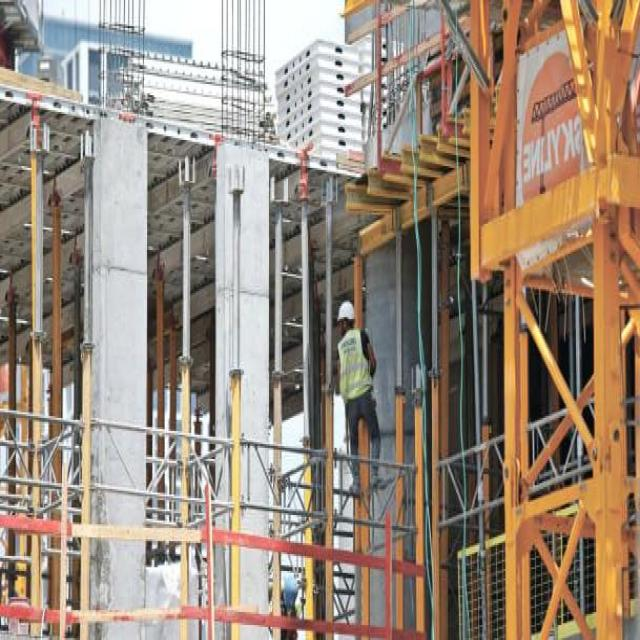Reflective-Jacket: (337, 330, 372, 401)
Safety-Helmet: (336, 298, 356, 323)
